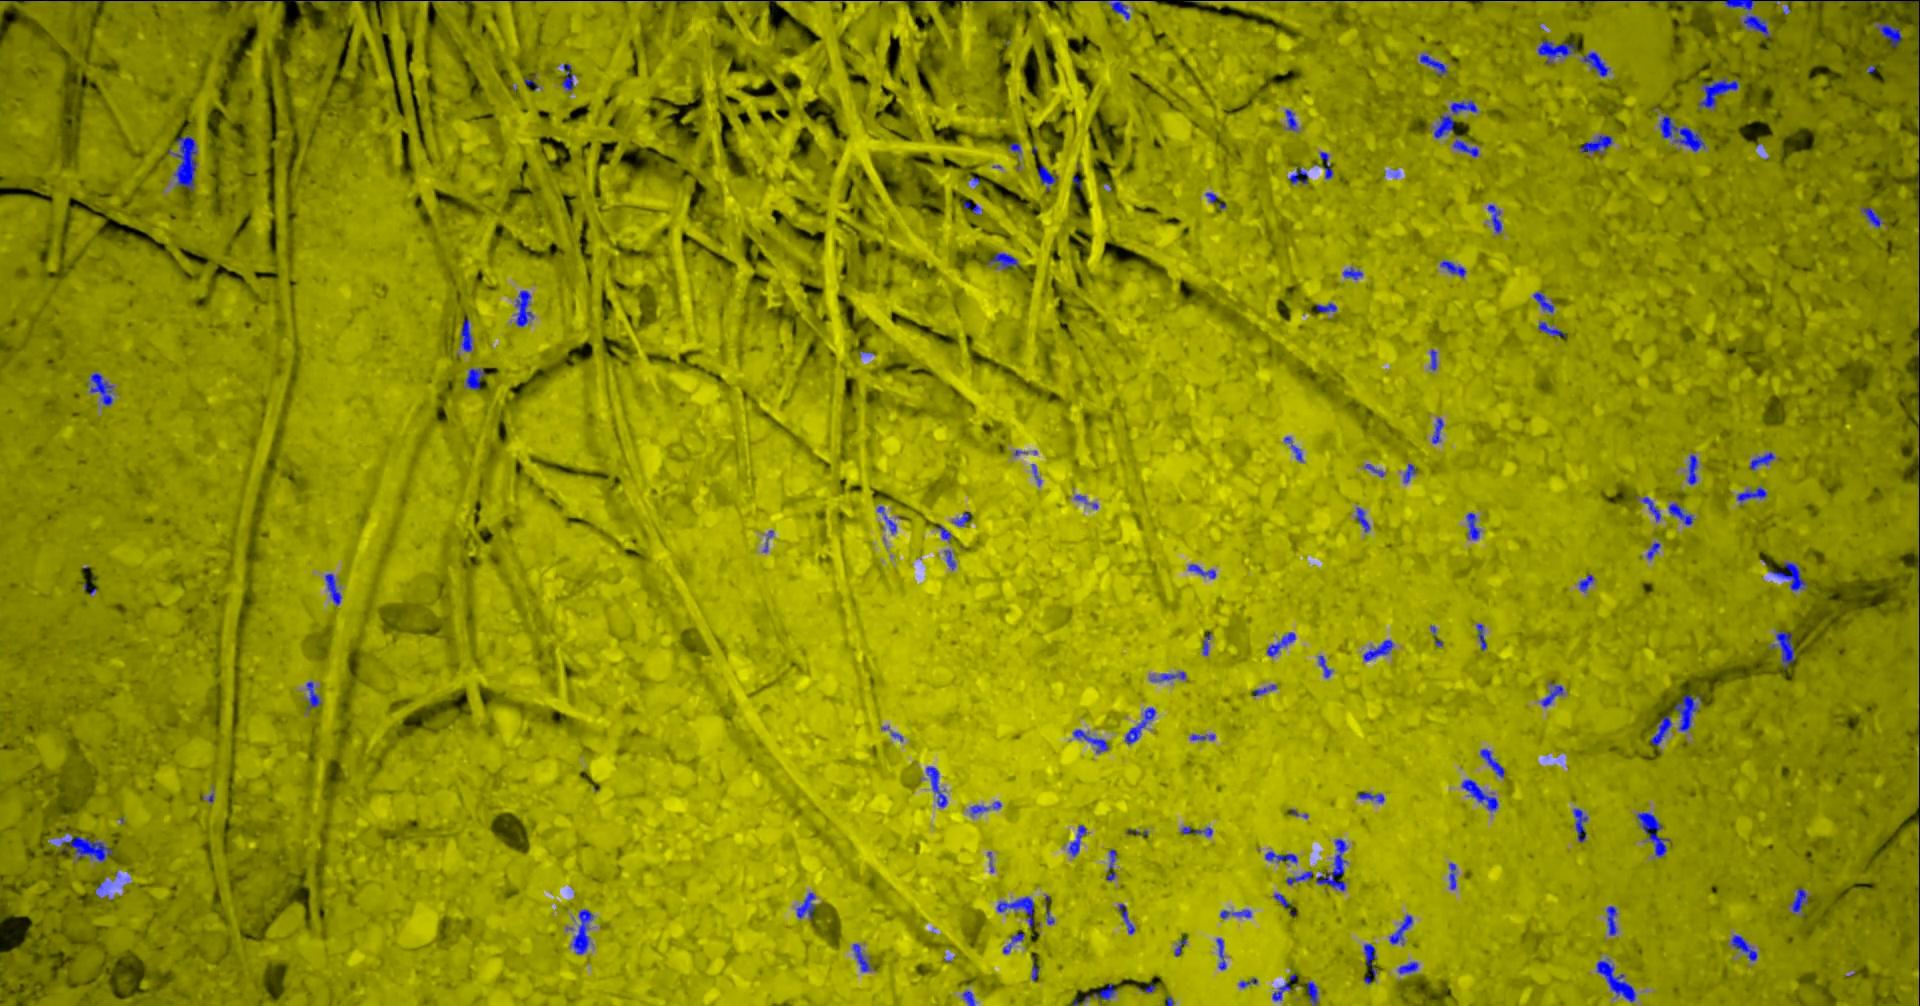ant: (1844, 0, 1919, 74), (1596, 958, 1636, 1001), (1658, 114, 1704, 151), (1316, 838, 1347, 890), (1432, 100, 1476, 138), (1636, 812, 1669, 857), (61, 835, 113, 861), (173, 135, 197, 189), (996, 895, 1034, 929), (1698, 77, 1737, 108), (1124, 708, 1156, 744), (1462, 779, 1498, 810), (1769, 561, 1807, 589), (1674, 694, 1700, 730), (1537, 39, 1576, 64), (571, 909, 592, 954), (924, 766, 946, 807), (1072, 729, 1109, 752), (90, 372, 113, 405), (1731, 934, 1757, 960), (1479, 748, 1503, 777), (1775, 630, 1794, 667), (1582, 51, 1609, 76), (1418, 53, 1448, 76), (1266, 633, 1295, 655), (1389, 915, 1412, 944), (1363, 639, 1393, 661), (1650, 715, 1671, 746), (1876, 23, 1901, 47), (516, 290, 532, 326), (1578, 135, 1611, 152), (1083, 983, 1116, 1001), (1743, 15, 1770, 37), (1451, 135, 1478, 156), (876, 506, 897, 533), (1363, 942, 1377, 983), (987, 251, 1018, 269), (324, 573, 342, 605), (1068, 824, 1086, 856), (1669, 502, 1693, 525), (1542, 681, 1563, 706), (1101, 0, 1129, 19), (1572, 808, 1587, 842), (1037, 164, 1057, 191), (796, 892, 815, 918), (1117, 903, 1134, 934), (1283, 436, 1302, 461), (1736, 486, 1766, 502), (852, 942, 869, 970), (1641, 495, 1660, 520), (1749, 452, 1774, 470), (1537, 321, 1566, 337), (1439, 260, 1465, 277), (1862, 207, 1883, 227), (465, 368, 485, 390), (1002, 932, 1023, 953), (1187, 563, 1215, 578), (305, 681, 320, 709), (1263, 850, 1297, 862), (1790, 887, 1807, 912), (1533, 292, 1553, 312), (1487, 205, 1501, 232), (1465, 512, 1479, 540), (1355, 507, 1370, 532), (460, 318, 471, 351), (1285, 870, 1312, 884), (1105, 848, 1116, 880), (1272, 981, 1291, 1000), (1722, 0, 1756, 10), (1150, 671, 1185, 681), (1319, 151, 1332, 178), (1288, 165, 1307, 183), (1180, 826, 1211, 836), (1686, 453, 1697, 484), (1606, 904, 1617, 935), (561, 64, 573, 90), (1431, 417, 1443, 443), (1318, 655, 1332, 677), (1476, 622, 1486, 650), (1219, 909, 1251, 918), (1217, 937, 1225, 969), (1252, 683, 1276, 695), (1305, 981, 1317, 1005), (1284, 108, 1297, 130), (1342, 267, 1363, 279), (1646, 541, 1660, 559), (1578, 573, 1592, 591), (1397, 962, 1418, 973), (963, 201, 982, 213), (1357, 793, 1384, 801), (936, 525, 951, 540), (943, 549, 955, 569), (952, 511, 969, 525), (1403, 464, 1416, 481), (1272, 893, 1288, 907), (1316, 302, 1336, 312), (1448, 862, 1455, 889), (970, 804, 988, 814), (1203, 633, 1210, 655), (963, 989, 974, 1005), (1430, 349, 1437, 370), (1190, 734, 1214, 741)
